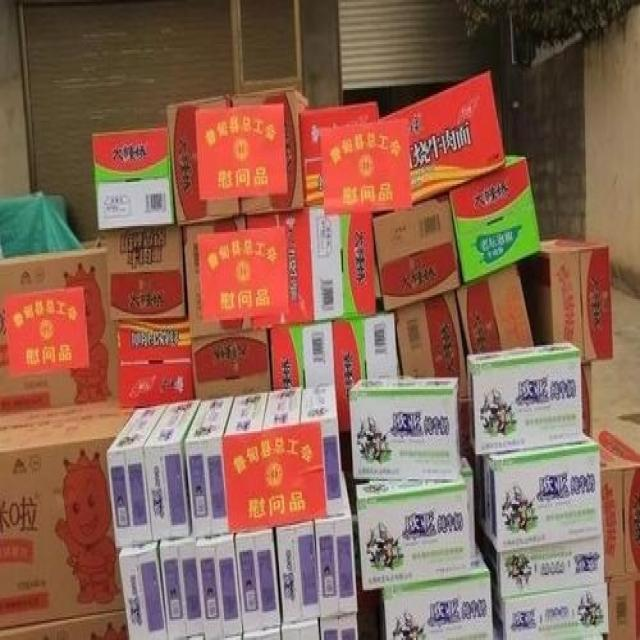box: (0, 397, 134, 632), (0, 247, 119, 414), (183, 207, 314, 339), (379, 71, 506, 205), (479, 431, 603, 550), (467, 339, 584, 454), (356, 475, 471, 590), (394, 289, 472, 452), (516, 236, 614, 364), (349, 377, 463, 483), (448, 155, 541, 284), (371, 194, 461, 310), (230, 90, 308, 215), (166, 94, 239, 226), (105, 404, 169, 550), (383, 556, 493, 640), (195, 103, 289, 197), (320, 121, 413, 213), (92, 128, 174, 232), (298, 103, 379, 207), (308, 205, 378, 324), (333, 312, 401, 433), (145, 400, 202, 542), (100, 226, 186, 320), (588, 427, 640, 579), (483, 533, 605, 596), (183, 395, 236, 537), (314, 471, 358, 640), (116, 312, 195, 406), (456, 261, 534, 356), (492, 581, 609, 640), (189, 328, 273, 399), (275, 519, 320, 640), (300, 381, 342, 502), (236, 527, 280, 640), (118, 542, 168, 640), (197, 533, 242, 640), (269, 320, 335, 391), (159, 538, 202, 640), (0, 611, 129, 640), (223, 391, 269, 439), (607, 579, 640, 640), (262, 385, 302, 433), (462, 456, 476, 558)
